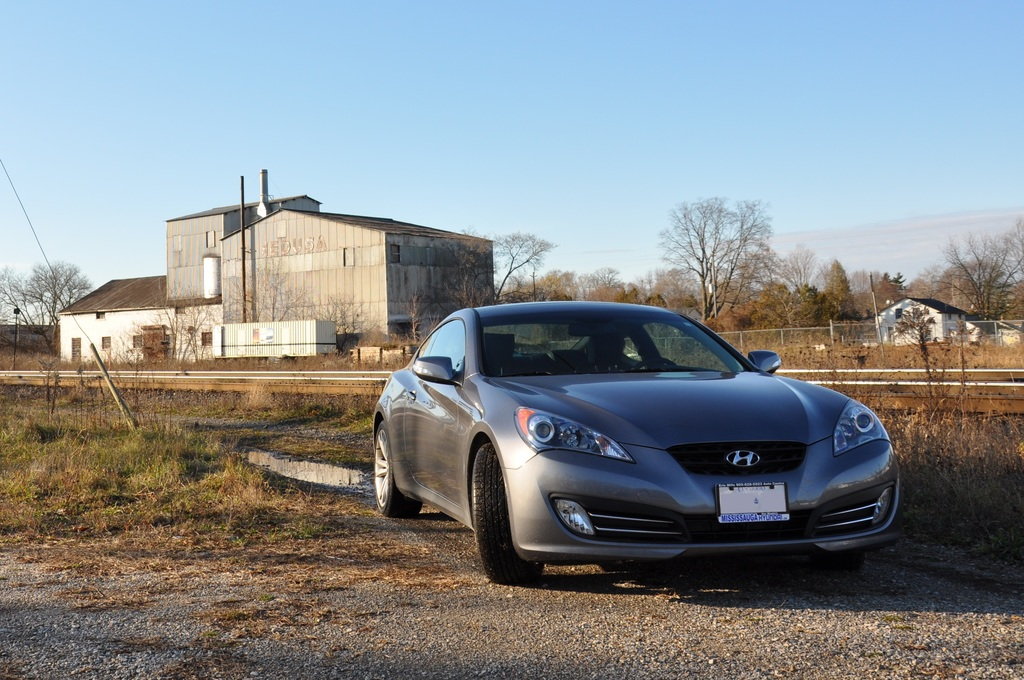Car: (373, 301, 902, 584)
